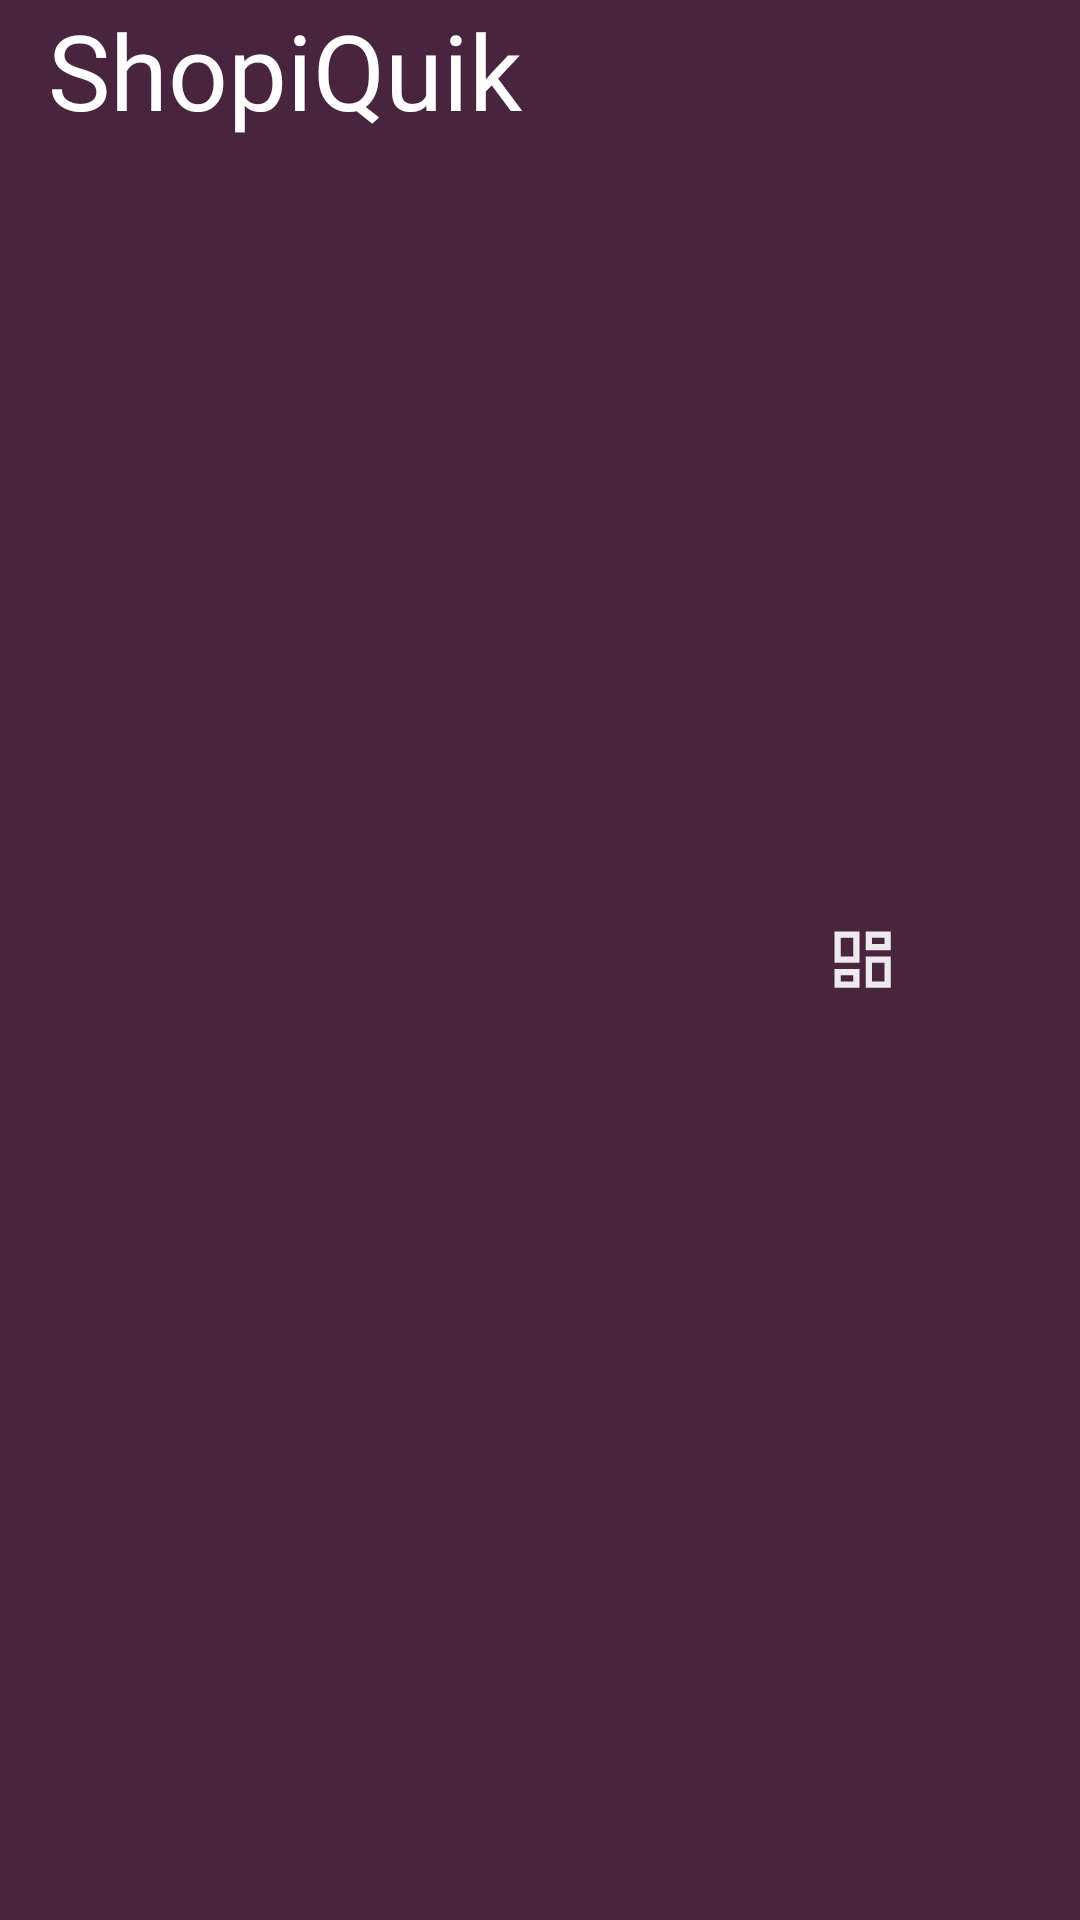

Where icons sit on this 1080 x 1920 app screen, as (x1, y1, x2, y2):
dashboard: (834, 931, 891, 988)
